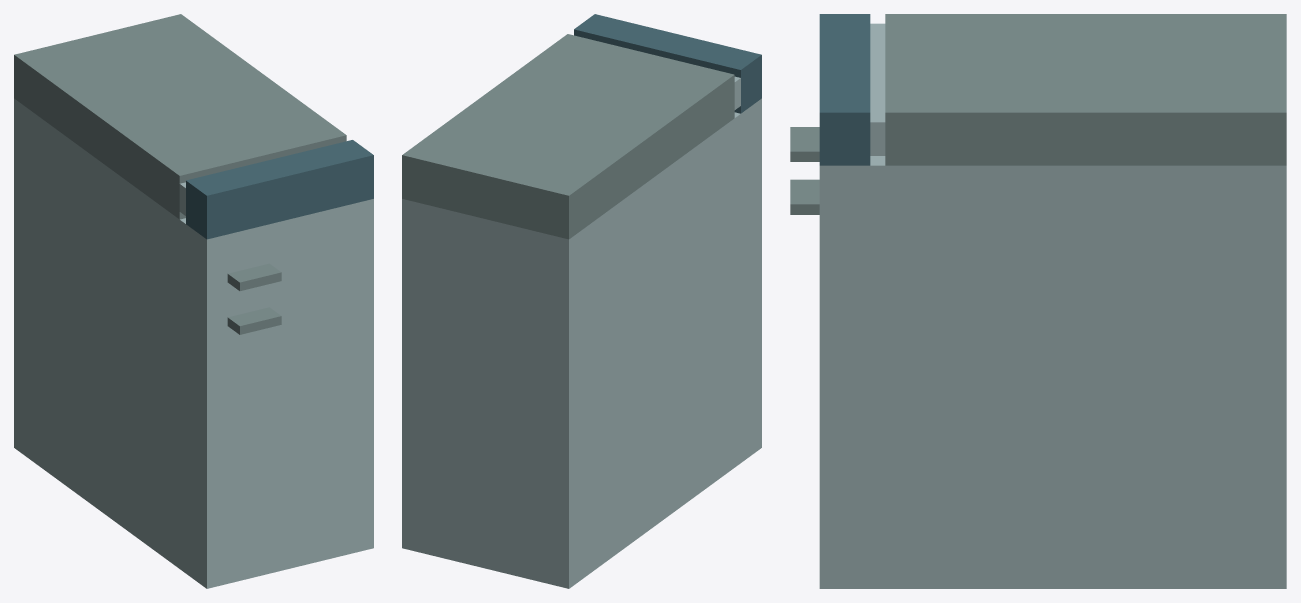
File: FloorBlock-Half.002.fbx
The picture shows the model from 3 angles, left to right: view 1: azimuth 30°, elevation 25°; view 2: azimuth 150°, elevation 25°; view 3: azimuth 270°, elevation 25°; orthographic projection. The views are drawn at different scales.
Parts seen in each view (by area): view 1: FloorBlock-Half.002; view 2: FloorBlock-Half.002; view 3: FloorBlock-Half.002.
Boxes of the visible parts, box(x1,y1,x2,y2) form: FloorBlock-Half.002: box(14, 14, 373, 588); FloorBlock-Half.002: box(402, 14, 761, 588); FloorBlock-Half.002: box(790, 14, 1286, 588).
Bounding box in the file's own units: 400 × 900 × 850.
